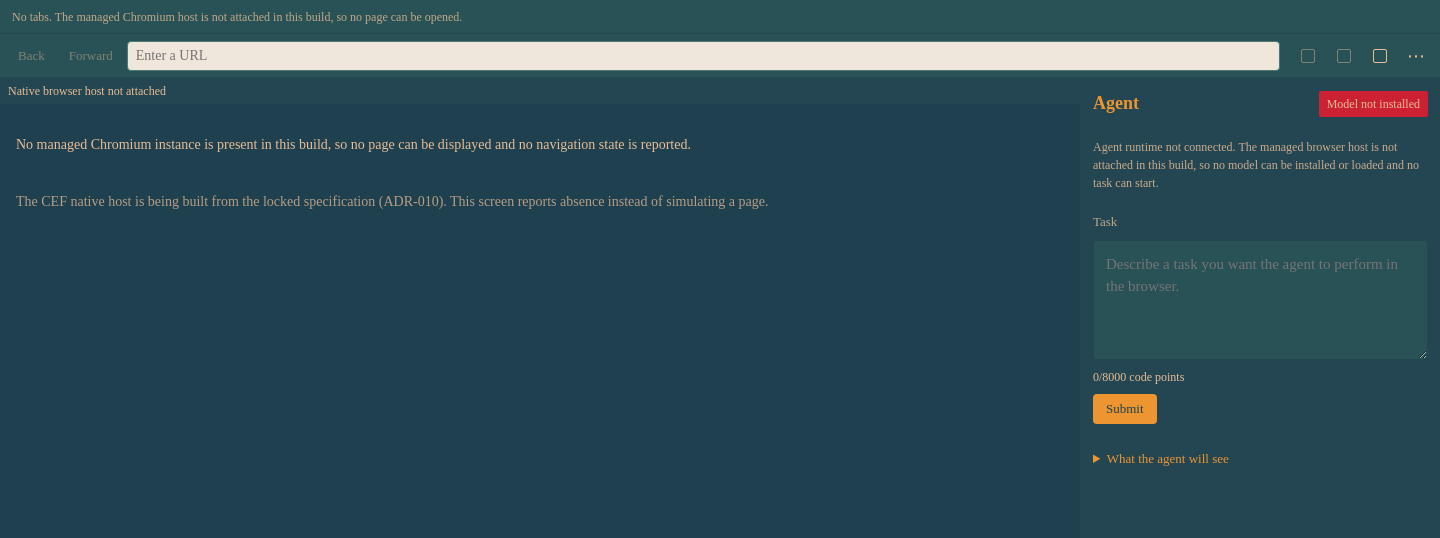
application shell › does not fabricate a task when a task is submitted without a runtime
Replace the text in the text box with id "ba-composer" with "Open the pricing page": x=1260, y=300 top-left (1093, 240), bottom-right (1428, 360)
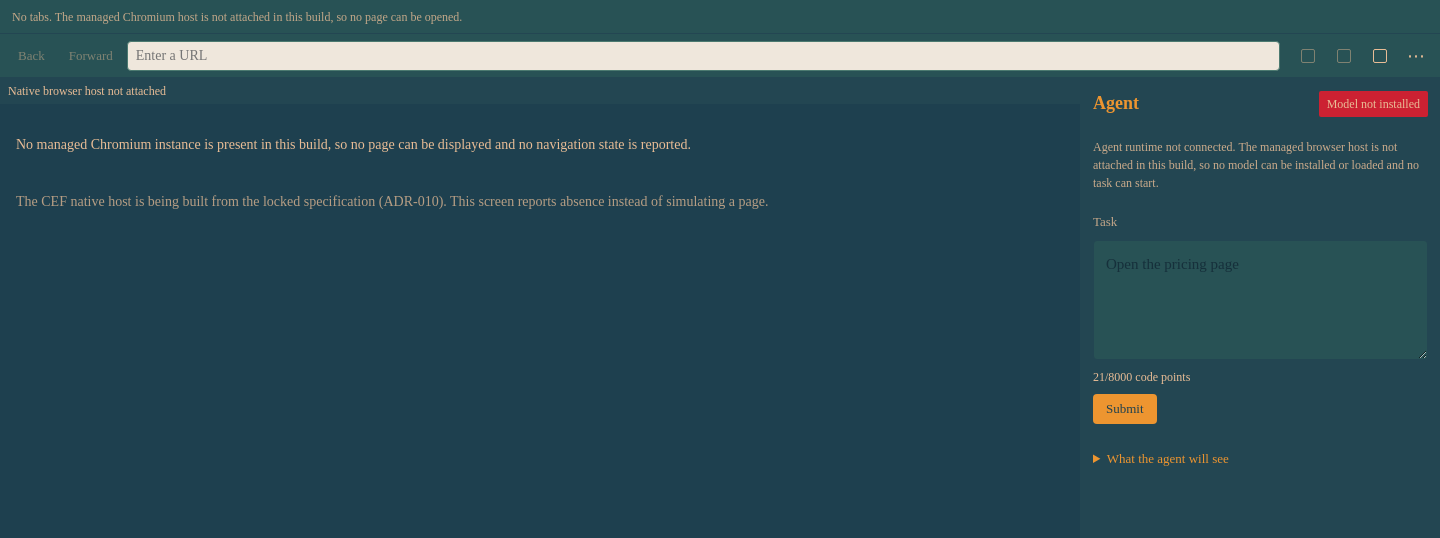
Click the button "Submit": x=1125, y=408 top-left (1093, 394), bottom-right (1157, 424)
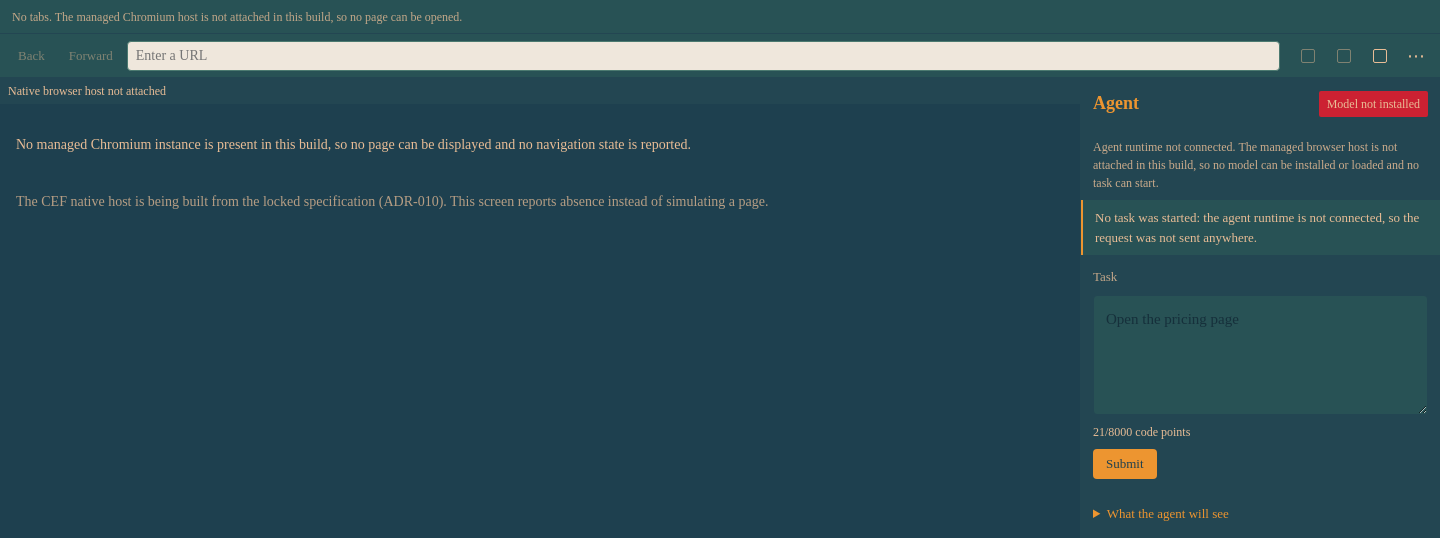
Check: the text "No task was started" is shown, box top-left (1095, 210), bottom-right (1419, 244)
